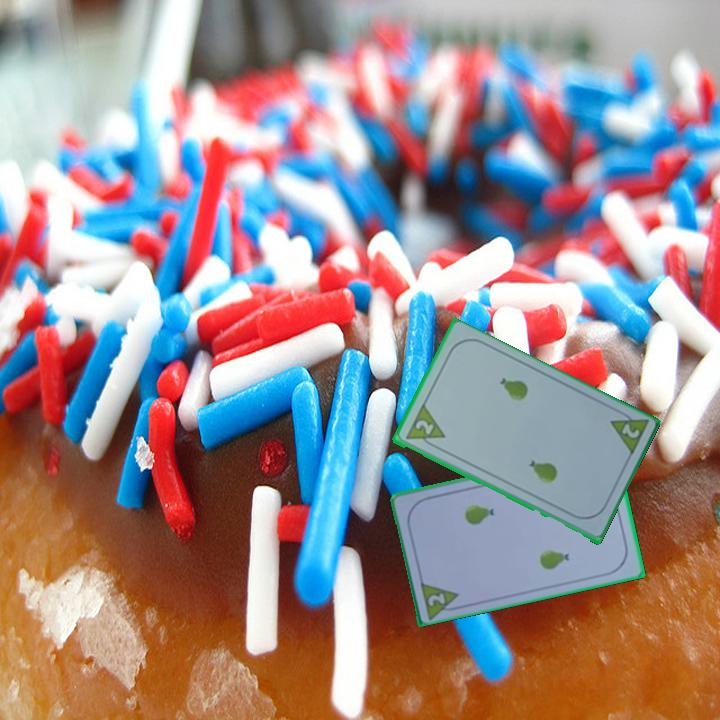2p: (401, 402, 448, 453), (617, 420, 642, 442), (424, 589, 448, 609)
